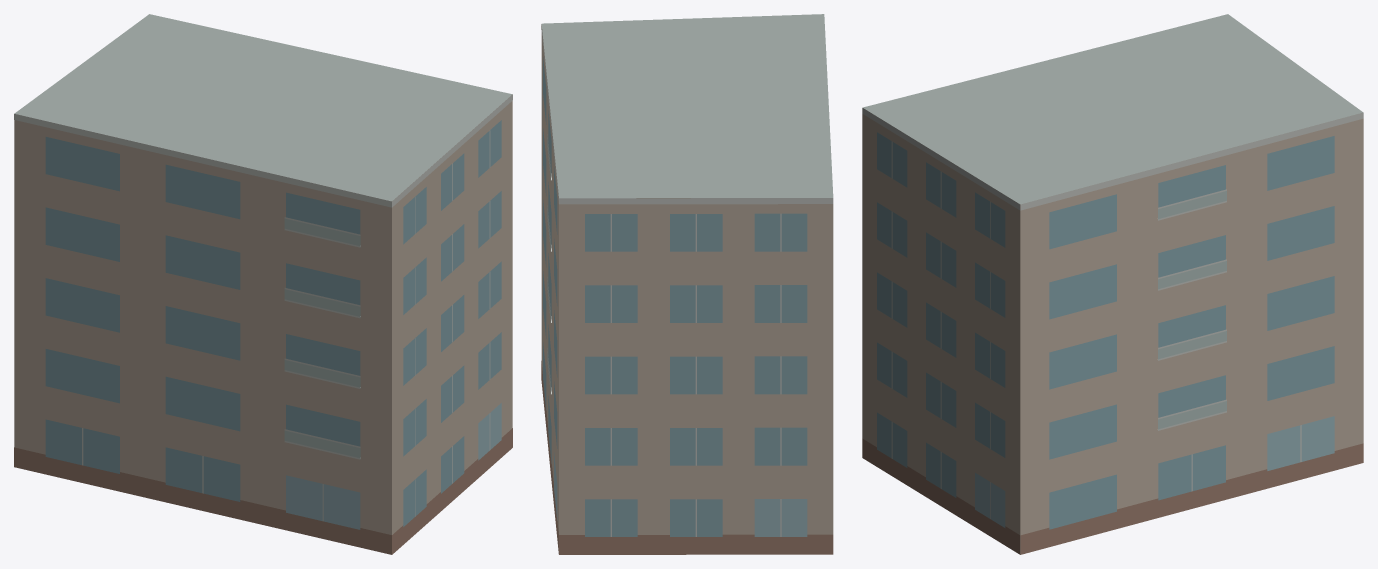
File: survey-upis-32947533.glb
3 renders of one model, left to right at view 1: azimuth 30°, elevation 25°; view 2: azimuth 150°, elevation 25°; view 3: azimuth 270°, elevation 25°, orthographic.
Parts seen in each view (by area): view 1: survey-upis-32947533.tmp; view 2: survey-upis-32947533.tmp; view 3: survey-upis-32947533.tmp.
Boxes of the visible parts, x1,y1,x2,y2 form: survey-upis-32947533.tmp: [14, 14, 512, 554]; survey-upis-32947533.tmp: [541, 14, 833, 554]; survey-upis-32947533.tmp: [862, 14, 1363, 554].
Size of the model in its own units: 16.34 by 14 by 18.16.
